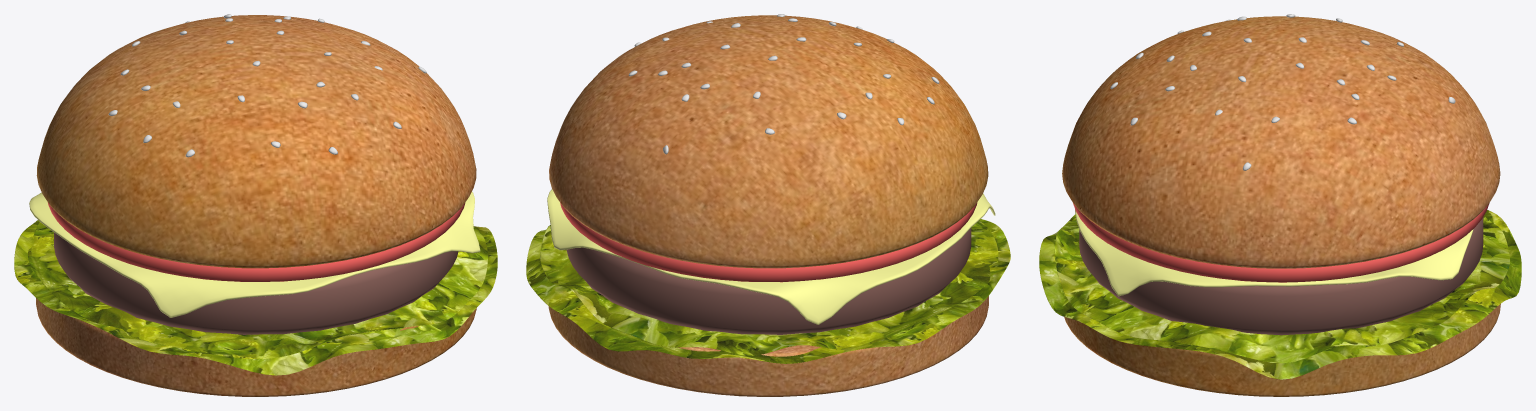
File: burger.gltf
3 views of the same model, side by side, from view 1: azimuth 30°, elevation 25°; view 2: azimuth 150°, elevation 25°; view 3: azimuth 270°, elevation 25° (orthographic).
Parts seen in each view (by area): view 1: Sphere, Sphere.002, Sphere.005, Circle.001, Circle, Plane, Sphere.001; view 2: Sphere, Sphere.002, Sphere.005, Circle.001, Circle, Plane, Sphere.001; view 3: Sphere, Sphere.002, Circle.001, Sphere.005, Circle, Plane, Sphere.001.
Boxes of the visible parts, x1=… form: Sphere: x1=36, y1=14, x2=476, y2=268; Sphere.002: x1=54, y1=232, x2=458, y2=334; Sphere.005: x1=36, y1=298, x2=476, y2=396; Circle.001: x1=28, y1=222, x2=487, y2=359; Circle: x1=14, y1=220, x2=497, y2=375; Plane: x1=29, y1=191, x2=480, y2=317; Sphere.001: x1=47, y1=202, x2=465, y2=281; Sphere: x1=549, y1=14, x2=988, y2=268; Sphere.002: x1=566, y1=228, x2=971, y2=334; Sphere.005: x1=548, y1=296, x2=988, y2=396; Circle.001: x1=540, y1=220, x2=998, y2=355; Circle: x1=526, y1=219, x2=1010, y2=363; Plane: x1=547, y1=189, x2=995, y2=324; Sphere.001: x1=560, y1=202, x2=977, y2=282; Sphere: x1=1062, y1=14, x2=1500, y2=268; Sphere.002: x1=1079, y1=217, x2=1483, y2=335; Circle.001: x1=1055, y1=215, x2=1509, y2=363; Sphere.005: x1=1064, y1=304, x2=1500, y2=396; Circle: x1=1039, y1=210, x2=1521, y2=379; Plane: x1=1075, y1=209, x2=1473, y2=296; Sphere.001: x1=1073, y1=203, x2=1489, y2=282.
Bounding box in the file's own units: 1.06 × 0.6286 × 1.06.
6 materials, 2 textured.
